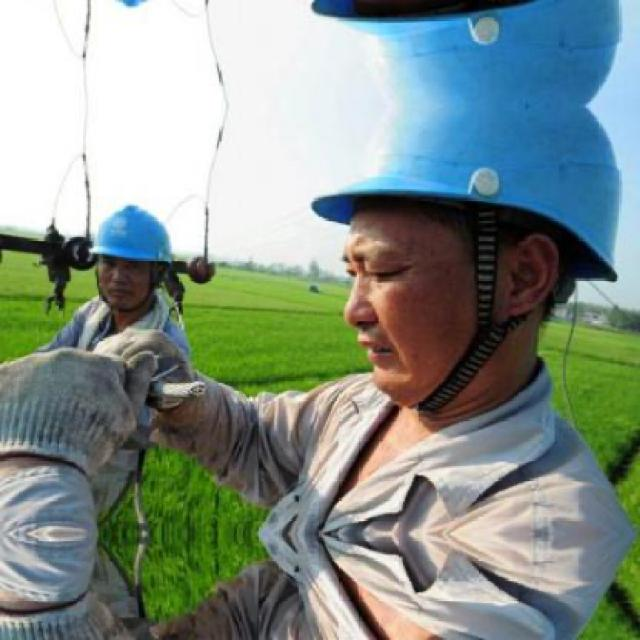helmet: (308, 104, 620, 438), (308, 0, 622, 106), (80, 195, 182, 320)
